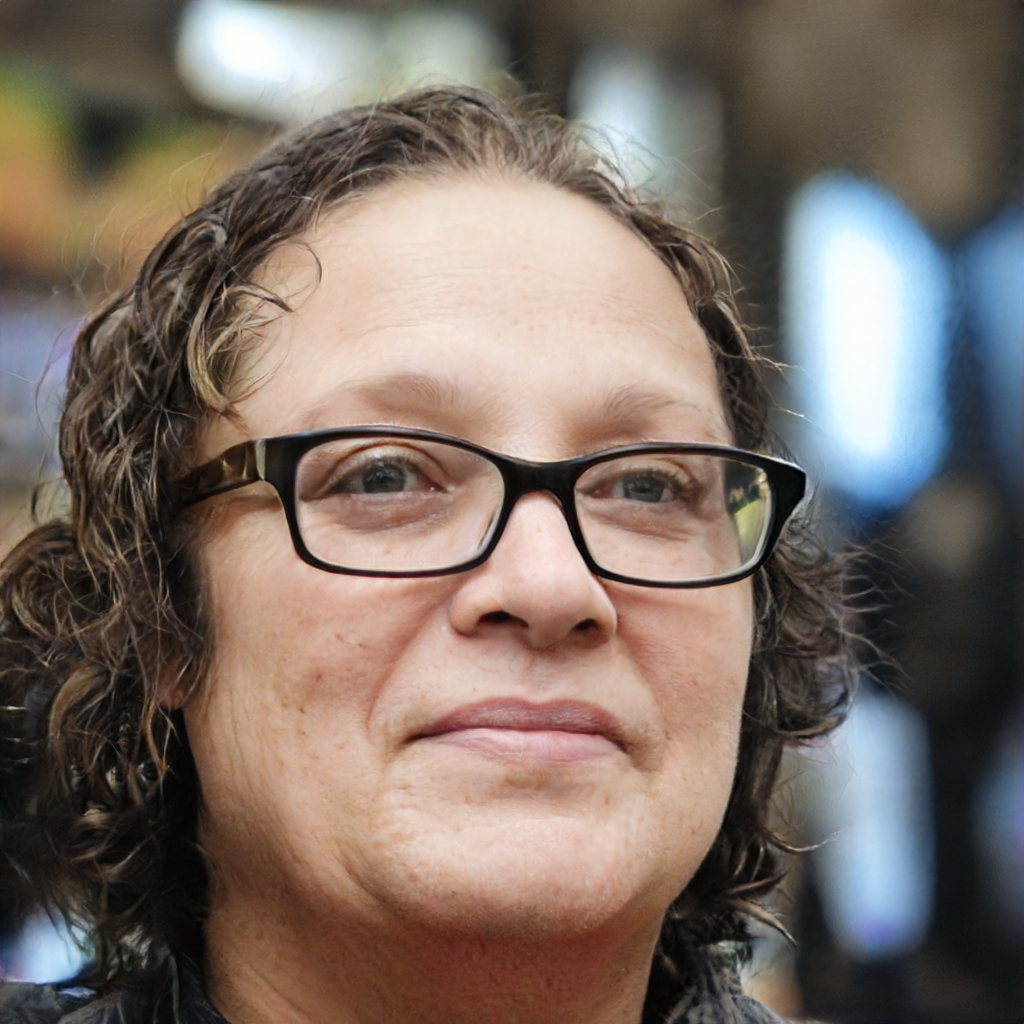human: (1, 72, 874, 1024)
